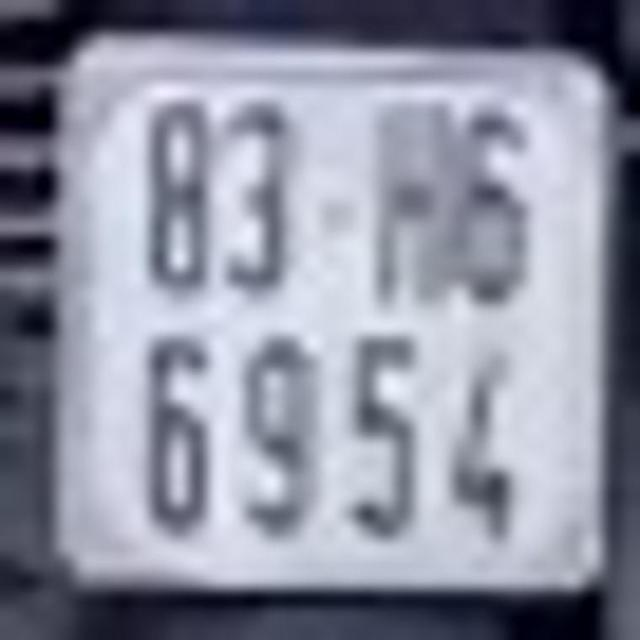3: (224, 96, 290, 294)
4: (451, 346, 521, 544)
5: (352, 330, 419, 540)
6: (463, 104, 533, 306), (146, 332, 212, 534)
8: (145, 91, 213, 294)
9: (240, 330, 317, 537)
B: (381, 96, 459, 305)
